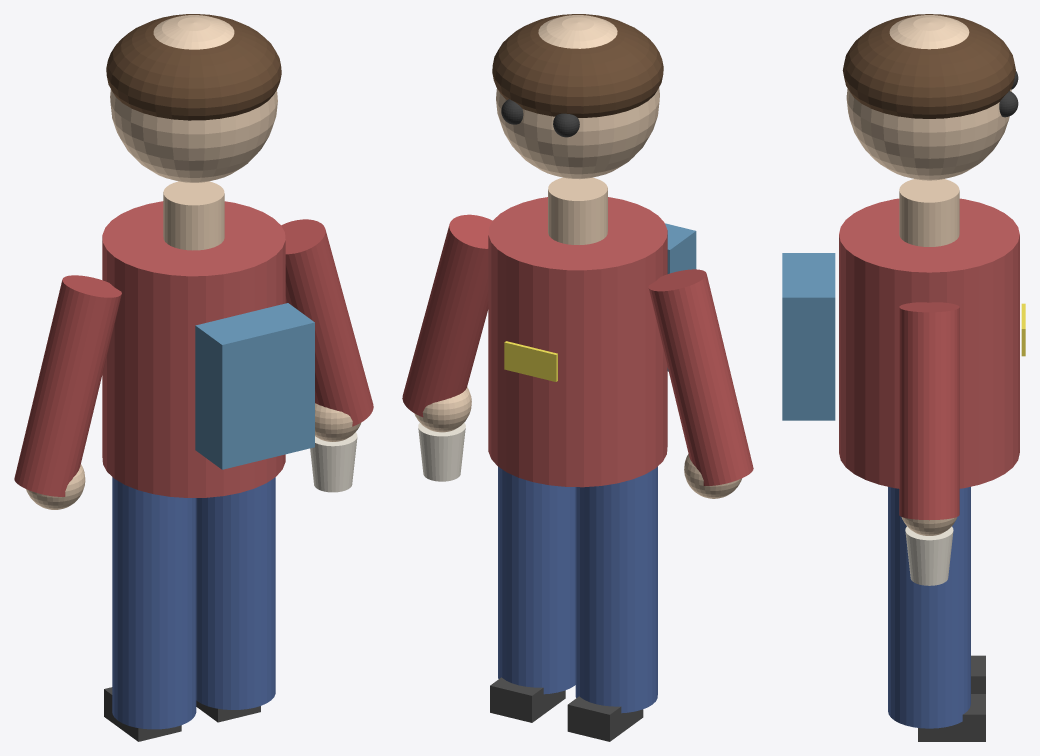
Rendered from student.glb.
3 views of the same model, side by side, from view 1: azimuth 30°, elevation 25°; view 2: azimuth 150°, elevation 25°; view 3: azimuth 270°, elevation 25° (orthographic). The views are drawn at different scales.
Visible parts, largest first — view 1: Student; view 2: Student; view 3: Student.
Part boxes in pixels (left/top/right/bottom): Student: left=14, top=14, right=373, bottom=741; Student: left=402, top=14, right=753, bottom=741; Student: left=782, top=14, right=1025, bottom=741.
Bounding box in the file's own units: 0.5297 × 1.01 × 0.3225.
